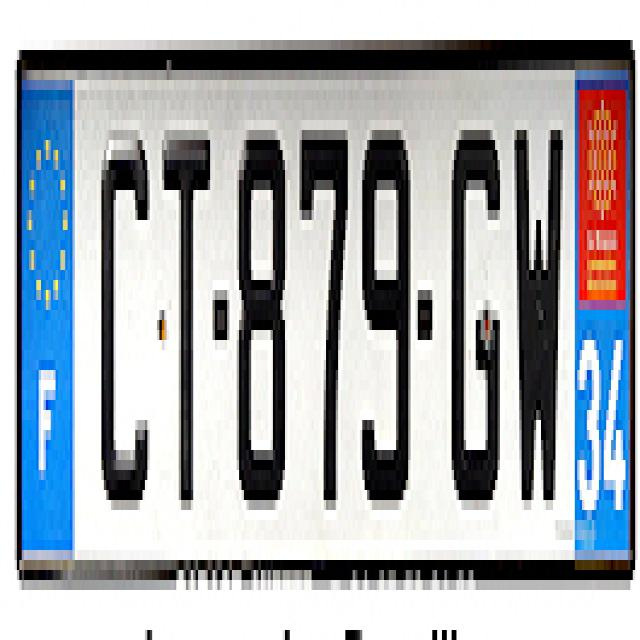EU: (20, 62, 633, 589)
France: (19, 69, 74, 551)
